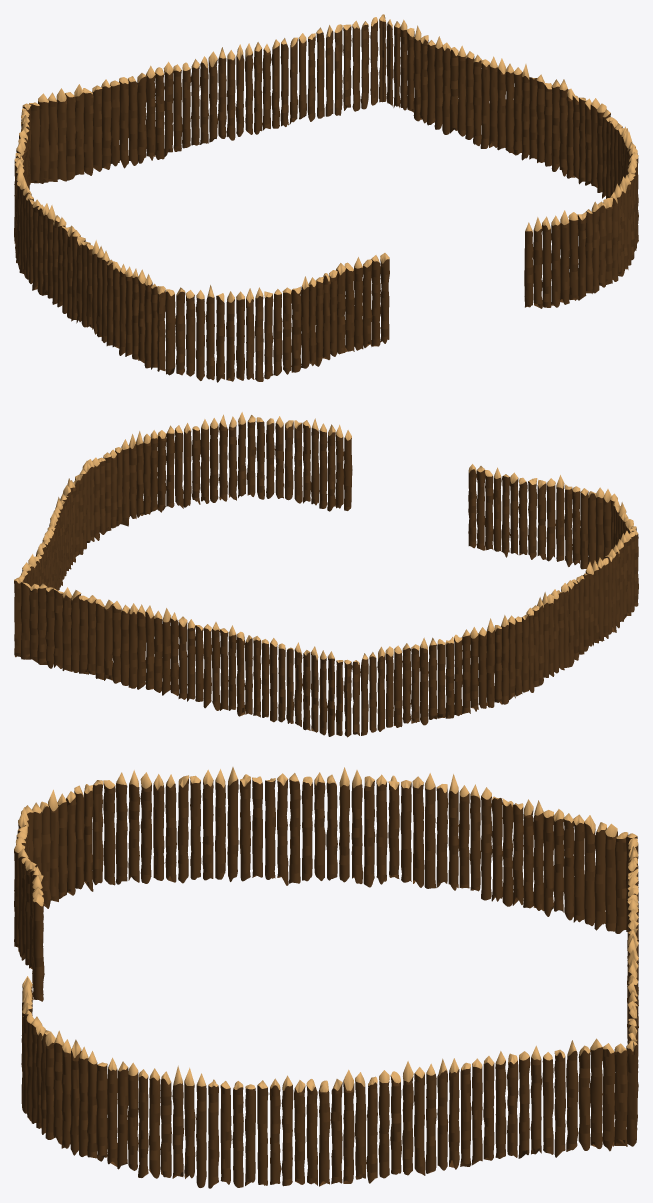
File: Fence.fbx
3 views of the same model, one above another, from view 1: azimuth 30°, elevation 25°; view 2: azimuth 150°, elevation 25°; view 3: azimuth 270°, elevation 25° (orthographic). The views are drawn at different scales.
Parts seen in each view (by area): view 1: Fence; view 2: Fence; view 3: Fence.
Boxes of the visible parts, <box> form: Fence: <box>14,14,638,382</box>; Fence: <box>14,412,638,737</box>; Fence: <box>14,767,638,1188</box>.
Bounding box in the file's own units: 1310 × 1108 × 234.
